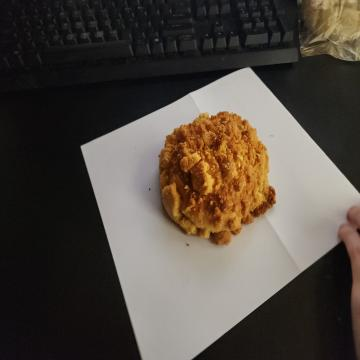soboru_bread: (154, 110, 277, 246)
